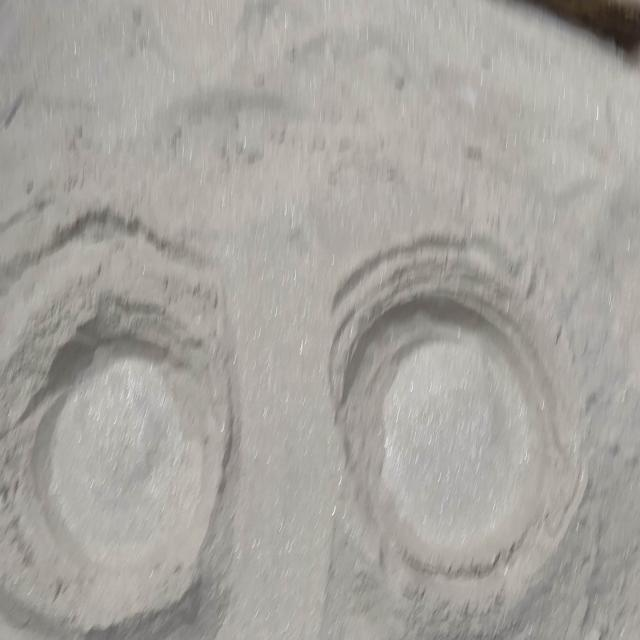C20: (331, 245, 582, 605), (0, 247, 229, 630)
